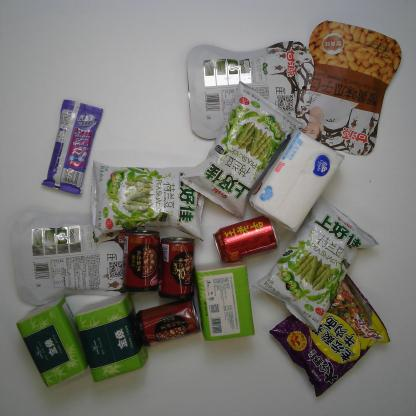Candy: (35, 87, 133, 208)
Canned Food: (129, 295, 192, 346), (118, 226, 160, 294), (156, 232, 196, 299)
Dried Fruit: (291, 16, 399, 155), (188, 35, 316, 148), (14, 203, 130, 308)
Drink: (210, 210, 279, 261)
Instant Noodles: (269, 266, 394, 400)
Puffed Food: (261, 192, 377, 332), (186, 80, 297, 218), (87, 145, 221, 245)
Tissue: (250, 132, 344, 231), (76, 294, 146, 382), (17, 300, 81, 390), (193, 263, 260, 345)
